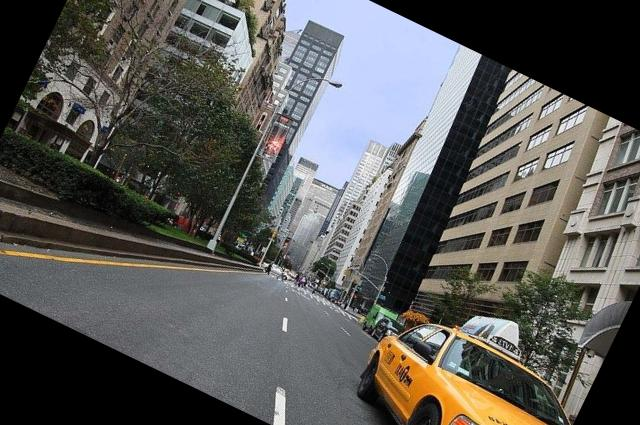taxi: (347, 322, 581, 423)
